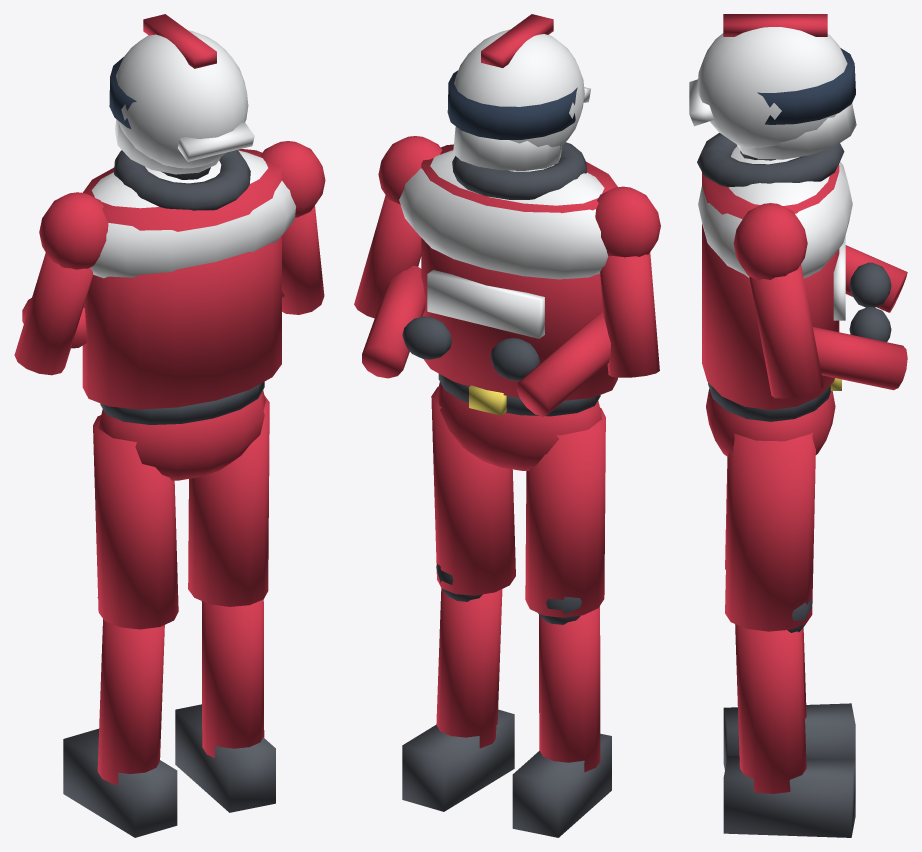
Rendered from f1_driver.glb.
3 views of the same model, side by side, from view 1: azimuth 30°, elevation 25°; view 2: azimuth 150°, elevation 25°; view 3: azimuth 270°, elevation 25° (orthographic). The views are drawn at different scales.
Visible parts, largest first — view 1: Torso_Core, Thigh_R, Helmet_Shell, Thigh_L, Chest_Yoke, Calf_R, Calf_L, Boot_R, Pelvis, Boot_L, UpperArm_R, Collar_HANS (+8 smaller); view 2: Chest_Yoke, Thigh_R, Torso_Core, Thigh_L, Calf_R, Calf_L, Helmet_Shell, Boot_L, Boot_R, Pelvis, UpperArm_R, Chest_Stripe (+14 smaller); view 3: Thigh_L, Torso_Core, Helmet_Shell, Calf_L, Boot_L, Chest_Yoke, UpperArm_L, Shoulder_L, Forearm_L, Collar_HANS, Pelvis, Boot_R (+9 smaller).
Part boxes in pixels (x1,y1,x2,y2): Torso_Core: [82, 149, 281, 409]; Thigh_R: [93, 415, 178, 629]; Helmet_Shell: [116, 30, 248, 168]; Thigh_L: [188, 396, 269, 606]; Chest_Yoke: [90, 150, 295, 278]; Calf_R: [97, 619, 164, 785]; Calf_L: [201, 599, 264, 757]; Boot_R: [63, 728, 177, 837]; Pelvis: [99, 390, 265, 480]; Boot_L: [175, 704, 275, 812]; UpperArm_R: [14, 253, 93, 375]; Collar_HANS: [114, 150, 250, 210]; Chest_Yoke: [399, 150, 608, 279]; Thigh_R: [525, 407, 605, 617]; Torso_Core: [421, 144, 617, 400]; Thigh_L: [431, 386, 515, 595]; Calf_R: [539, 606, 600, 772]; Calf_L: [436, 588, 502, 748]; Helmet_Shell: [454, 29, 584, 147]; Boot_L: [402, 709, 514, 811]; Boot_R: [512, 733, 611, 837]; Pelvis: [437, 382, 601, 470]; UpperArm_R: [600, 252, 659, 377]; Chest_Stripe: [427, 270, 544, 338]; Thigh_L: [725, 432, 815, 631]; Torso_Core: [702, 164, 839, 410]; Helmet_Shell: [697, 27, 847, 148]; Calf_L: [735, 624, 806, 793]; Boot_L: [723, 755, 855, 837]; Chest_Yoke: [698, 146, 852, 278]; UpperArm_L: [749, 265, 823, 398]; Shoulder_L: [733, 203, 807, 280]; Forearm_L: [813, 327, 907, 390]; Collar_HANS: [697, 133, 844, 187]; Pelvis: [706, 389, 835, 456]; Boot_R: [723, 703, 855, 769].
Size of the model in its own units: 0.7484 by 1.81 by 0.4595.
